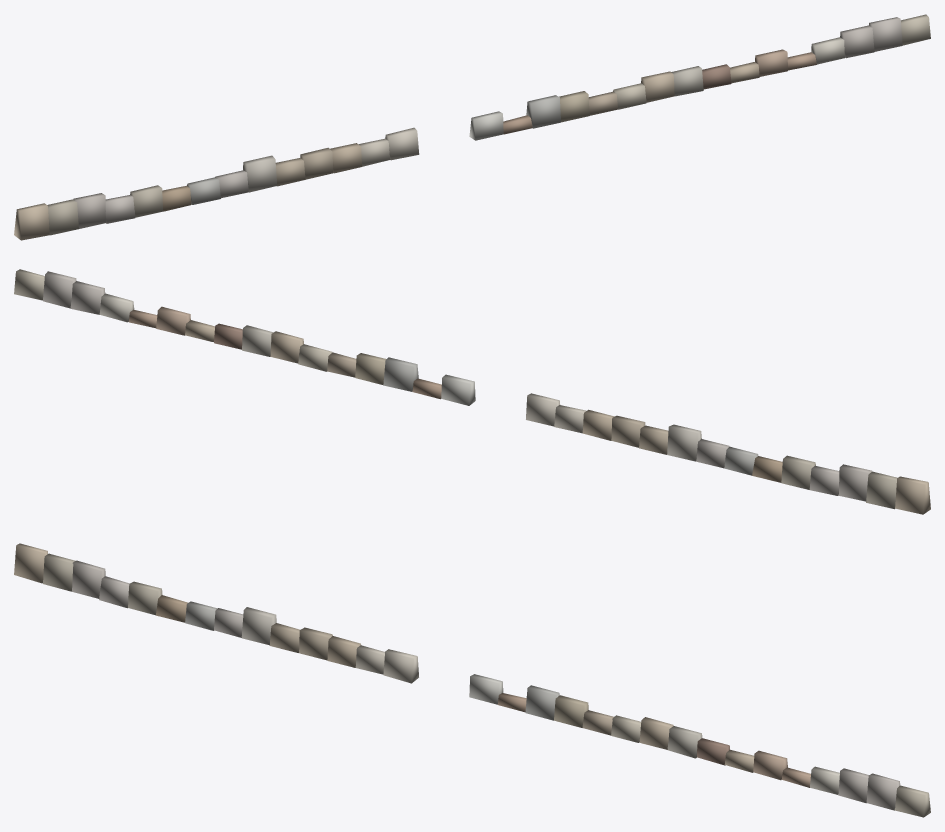
Rendered from farm_4_12_far.glb.
3 views of the same model, one above another, from view 1: azimuth 30°, elevation 25°; view 2: azimuth 150°, elevation 25°; view 3: azimuth 330°, elevation 25° (orthographic). The views are drawn at different scales.
Visible parts, largest first — view 1: geometry_0; view 2: geometry_0; view 3: geometry_0.
Boxes of the visible parts, box(x1,y1,x2,y2) form: geometry_0: box(14, 14, 930, 240); geometry_0: box(14, 269, 930, 514); geometry_0: box(14, 543, 930, 817).
Size of the model in its own units: 51.19 by 2.12 by 1.68.
